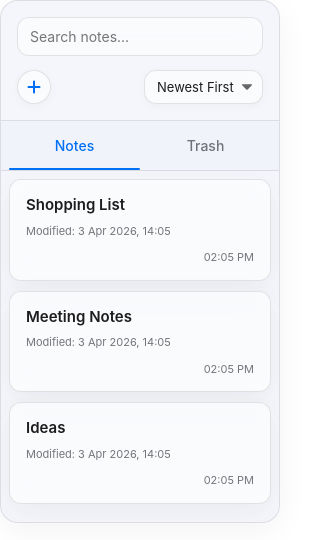
SideBar.vue › filters notes when searching
// Type "Shopping" into it
Type "Shopping" into the field with id "search-input" at (140, 36), box [17,17,263,56]
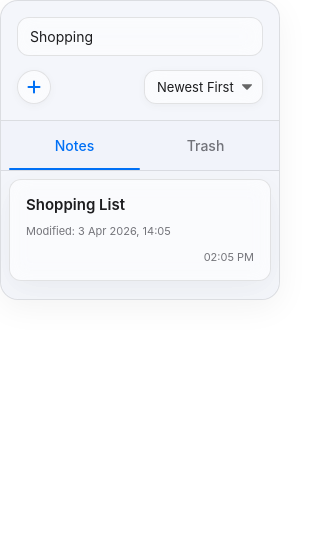
Expected: the text "Shopping List" is shown, [26,195,125,214]
Expected: the number of elements with class "note-item" is 1, [9,179,271,280]
Expected: the text "Meeting Notes" is gone
